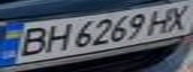2: (90, 16, 115, 47)
6: (109, 12, 136, 44), (72, 18, 96, 50)
9: (124, 10, 154, 40)
B: (9, 24, 54, 58)
H: (39, 20, 72, 53), (142, 6, 178, 36)
X: (160, 2, 193, 33)
